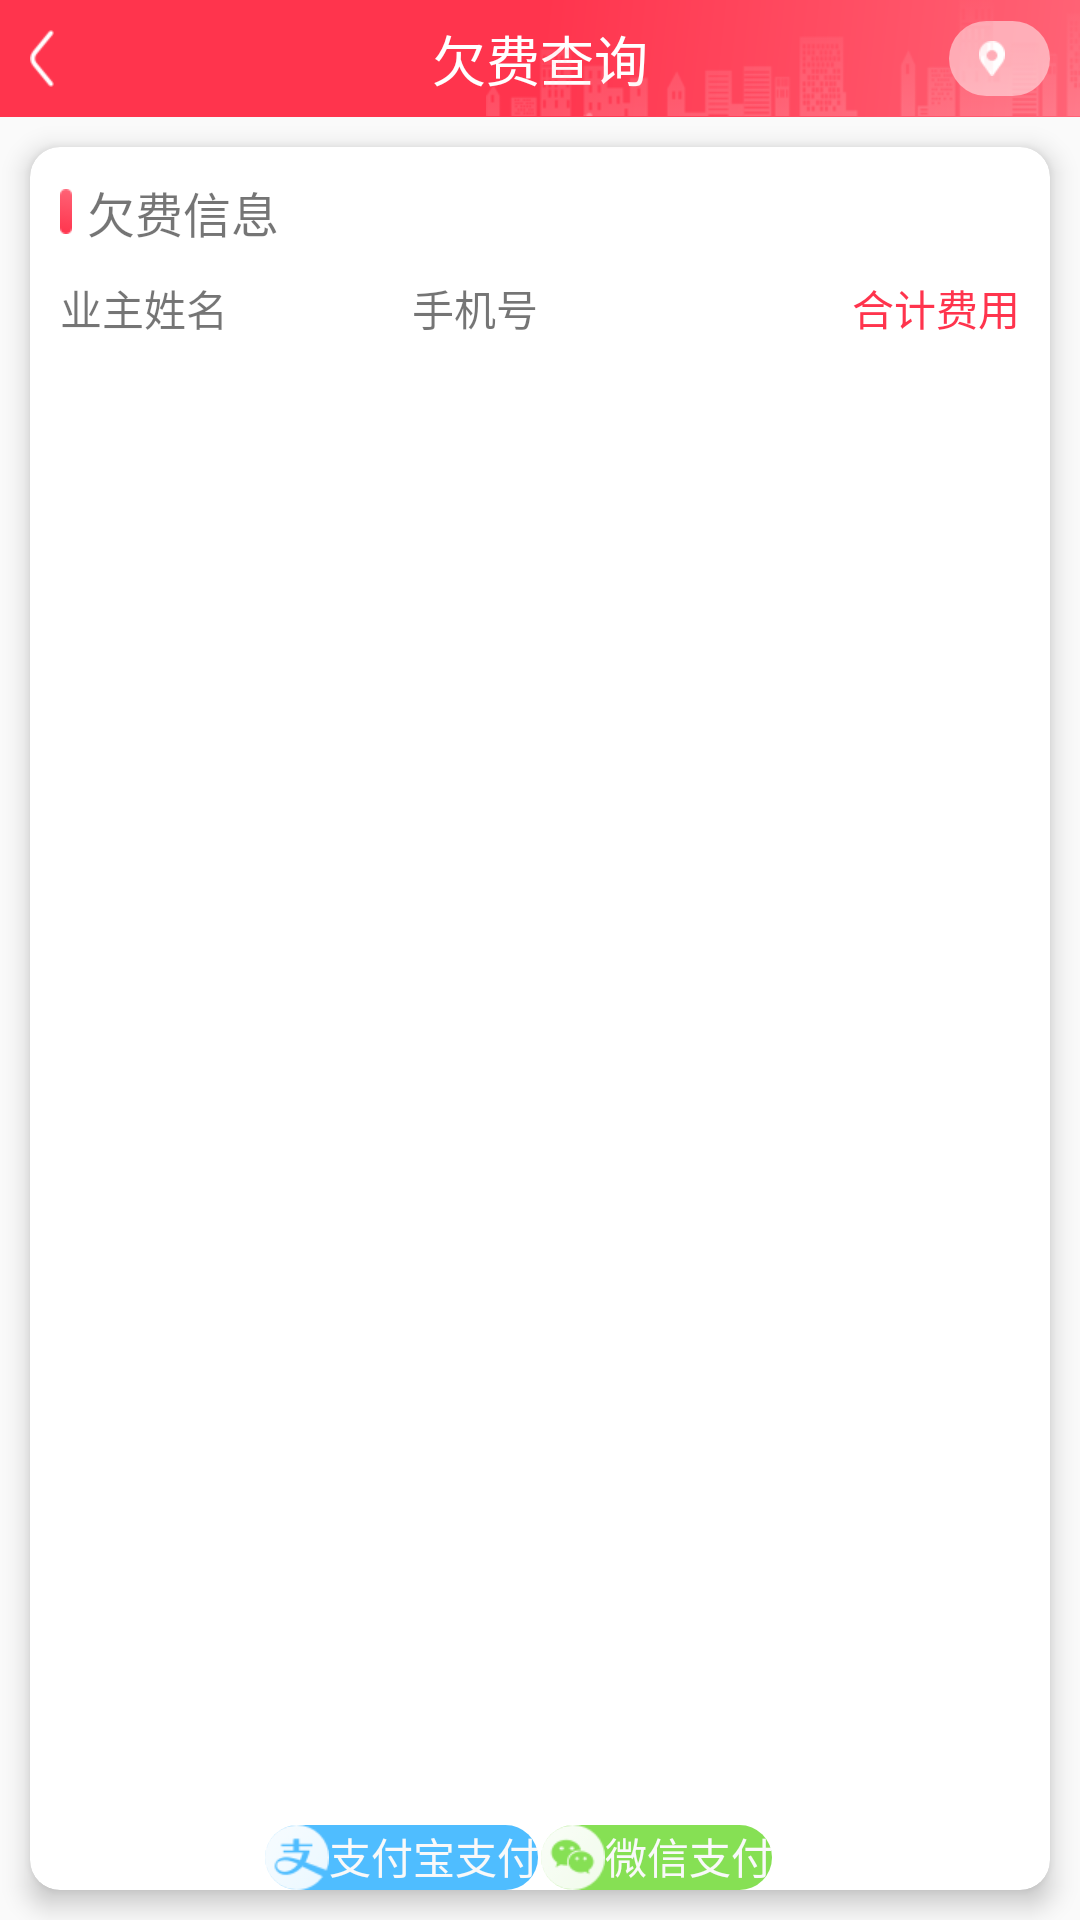

Icon bounding boxes for this 1080*1920 phone screenshot, format box(x1, y1, x2, y2):
back: box(30, 30, 54, 87)
